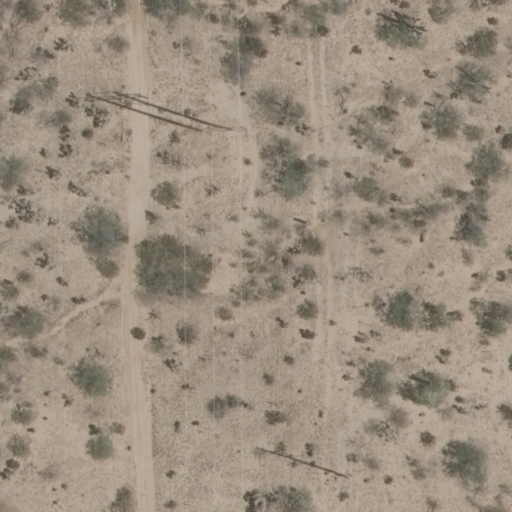DT: (167, 107, 236, 136), (307, 458, 357, 485)
